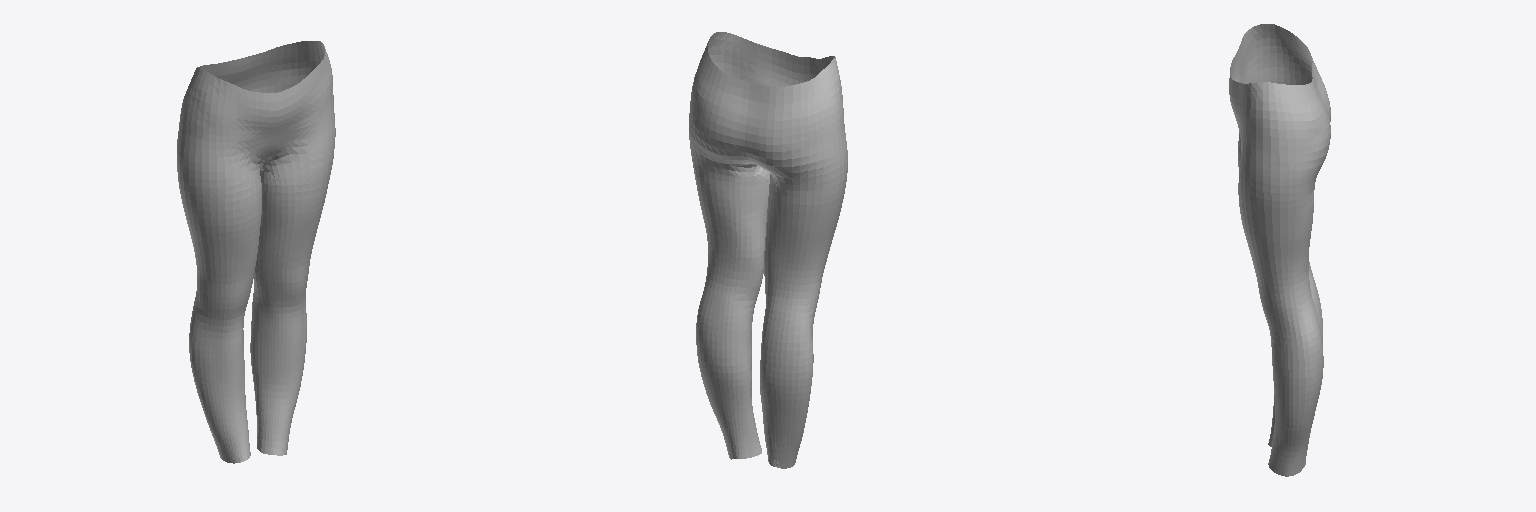
The model's file is leggings.obj.
The picture shows the model from 3 angles: view 1: azimuth 30°, elevation 25°; view 2: azimuth 150°, elevation 25°; view 3: azimuth 270°, elevation 25°; orthographic projection.
Parts seen in each view (by area): view 1: Leggin_Front_Mid_Feedback_A; view 2: Leggin_Front_Mid_Feedback_A; view 3: Leggin_Front_Mid_Feedback_A.
Part boxes in pixels (left/top/right/bottom): Leggin_Front_Mid_Feedback_A: left=177, top=41, right=335, bottom=463; Leggin_Front_Mid_Feedback_A: left=689, top=32, right=847, bottom=468; Leggin_Front_Mid_Feedback_A: left=1229, top=24, right=1330, bottom=476.
Size of the model in its own units: 39.5 by 104 by 23.47.